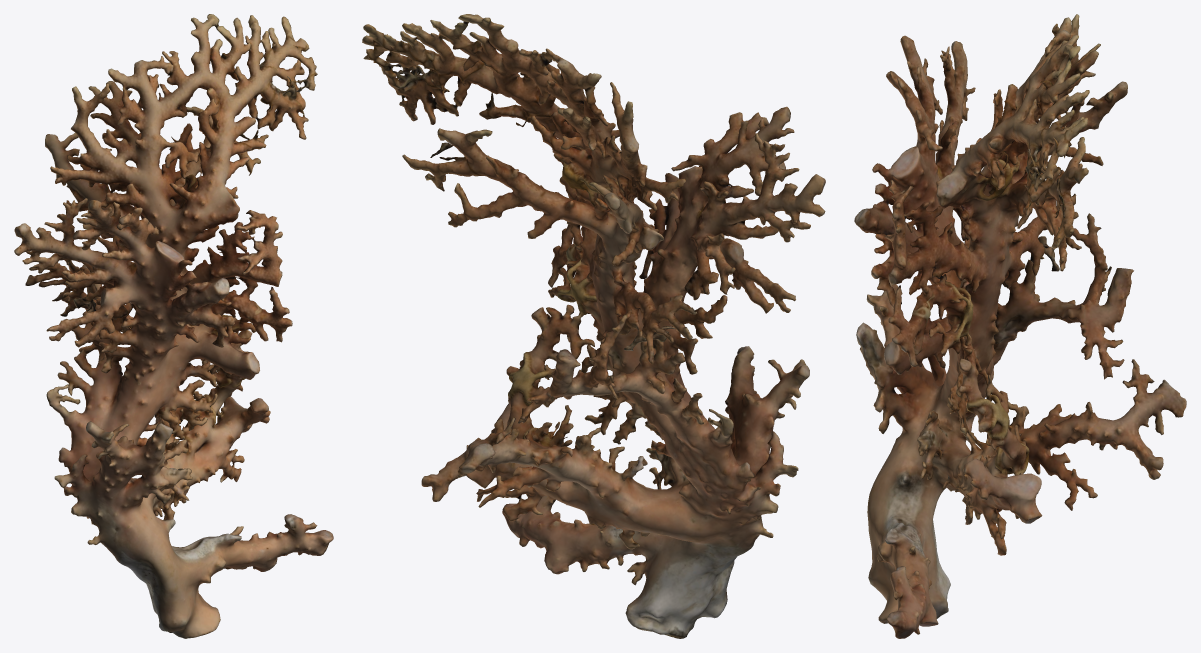
The model's file is stylaster_brochi.glb.
3 renders of one model, left to right at view 1: azimuth 30°, elevation 25°; view 2: azimuth 150°, elevation 25°; view 3: azimuth 270°, elevation 25°, orthographic. The views are drawn at different scales.
Parts seen in each view (by area): view 1: Object_4; view 2: Object_4, Object_5; view 3: Object_4, Object_5.
Part boxes in pixels (bbox=[...]): Object_4: bbox=[14, 14, 333, 638]; Object_4: bbox=[362, 14, 825, 638]; Object_5: bbox=[426, 122, 679, 505]; Object_4: bbox=[854, 14, 1163, 638]; Object_5: bbox=[875, 161, 1186, 510].
Bounding box in the file's own units: 0.1076 × 0.1631 × 0.0779.
1 material, 1 textured.
